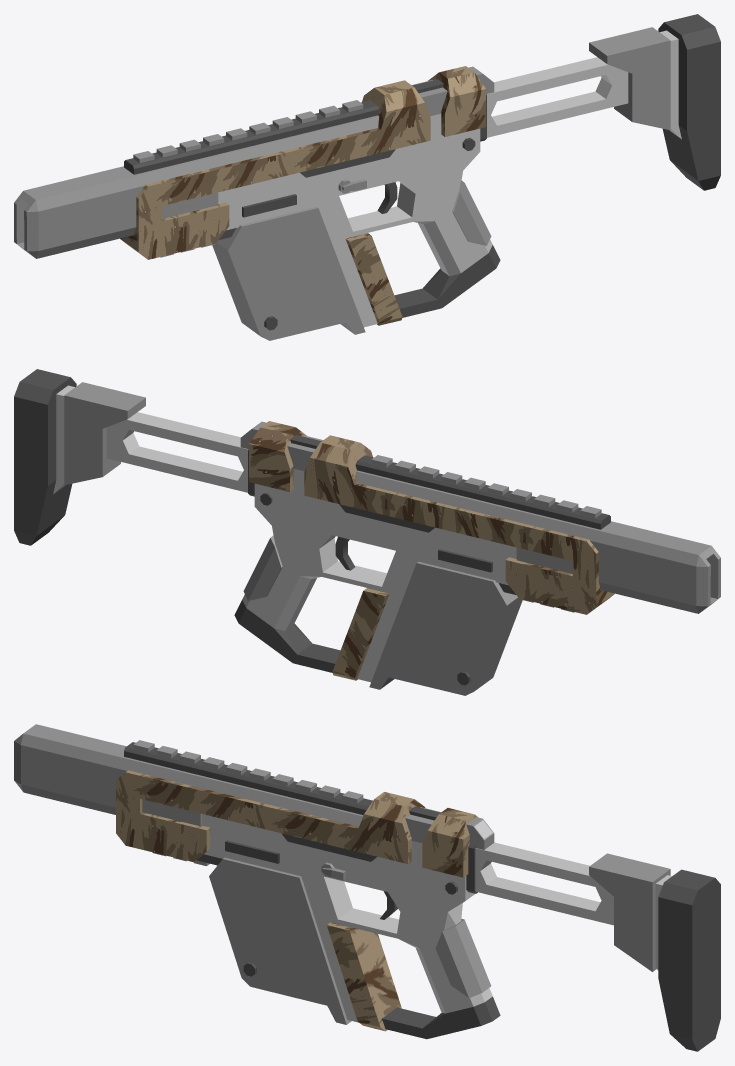
File: SM_SMGA1.fbx
3 renders of one model, top to bottom at view 1: azimuth 30°, elevation 25°; view 2: azimuth 150°, elevation 25°; view 3: azimuth 330°, elevation 25°, orthographic.
Visible parts, largest first — view 1: SM_SMGA1; view 2: SM_SMGA1; view 3: SM_SMGA1.
Part boxes in pixels (x1=…): SM_SMGA1: x1=14, y1=14, x2=720, y2=340; SM_SMGA1: x1=14, y1=369, x2=720, y2=695; SM_SMGA1: x1=14, y1=724, x2=720, y2=1051.
Bounding box in the file's own units: 62.81 × 19.98 × 4.56.
